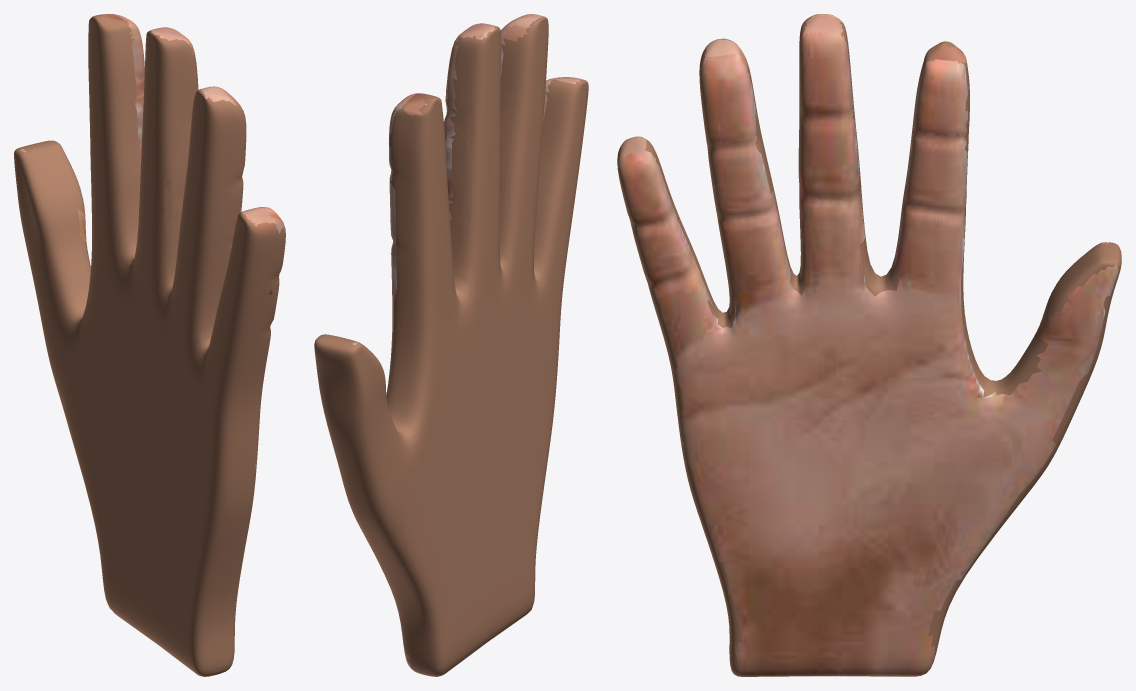
The model's file is hand.glb.
3 views of the same model, side by side, from view 1: azimuth 30°, elevation 25°; view 2: azimuth 150°, elevation 25°; view 3: azimuth 270°, elevation 25° (orthographic). The views are drawn at different scales.
Parts seen in each view (by area): view 1: Cube.001; view 2: Cube.001; view 3: Cube.001.
Part boxes in pixels (x1,y1,x2,y2): Cube.001: [14, 14, 285, 676]; Cube.001: [314, 14, 588, 676]; Cube.001: [617, 14, 1121, 676].
Size of the model in its own units: 0.3808 by 4.75 by 3.34.
2 materials, 1 textured.
